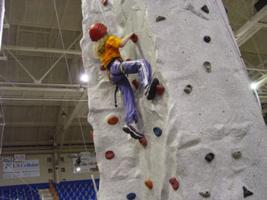person: (90, 23, 161, 141)
